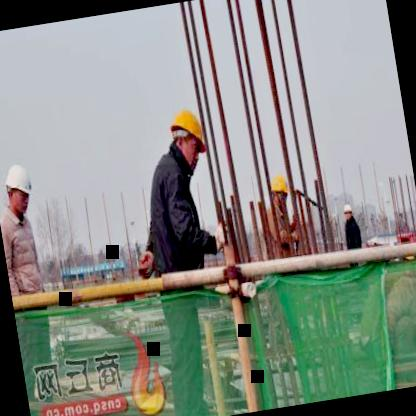helmet: (164, 102, 209, 170), (0, 156, 40, 221), (262, 169, 296, 214), (339, 198, 357, 222)
